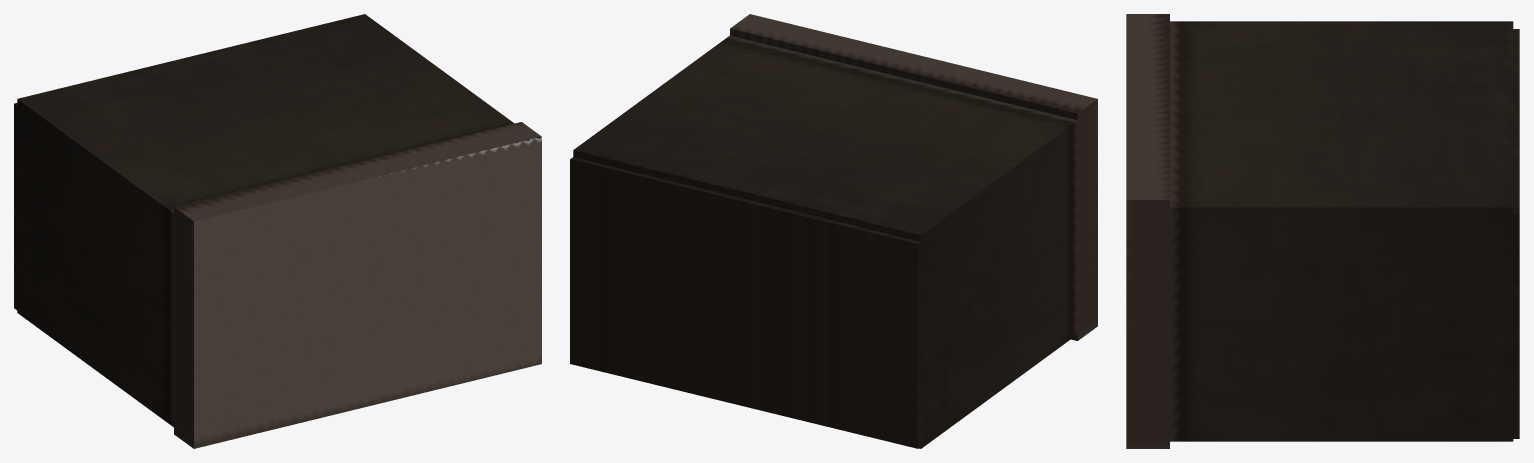
The model's file is pz_counter_dark_floor.obj.
The picture shows the model from 3 angles, left to right: view 1: azimuth 30°, elevation 25°; view 2: azimuth 150°, elevation 25°; view 3: azimuth 270°, elevation 25°; orthographic projection. The views are drawn at different scales.
Bounding box in the file's own units: 1 × 0.6266 × 0.895.
1 material, 1 textured.
